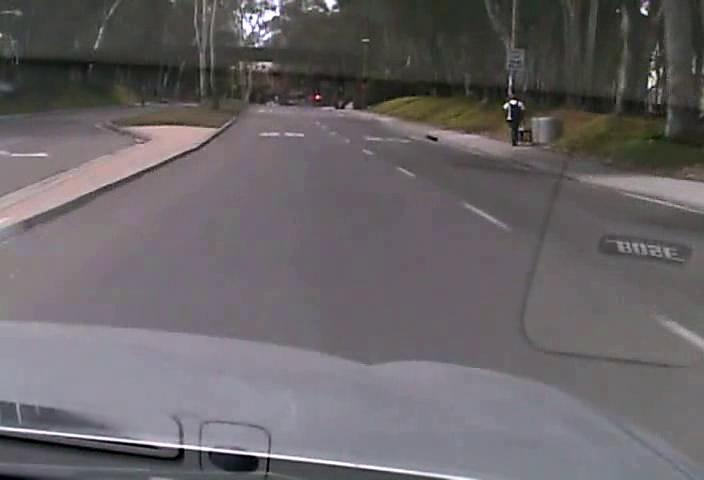speedLimit25: (504, 45, 525, 72)
